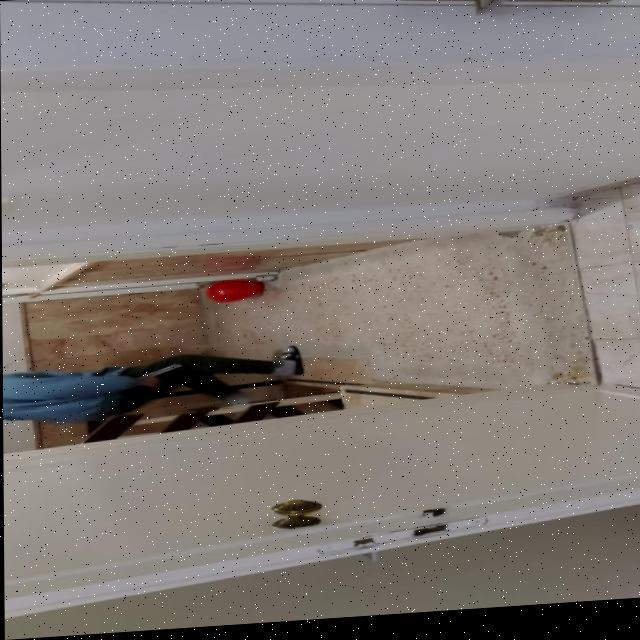balloon: (191, 279, 268, 309)
